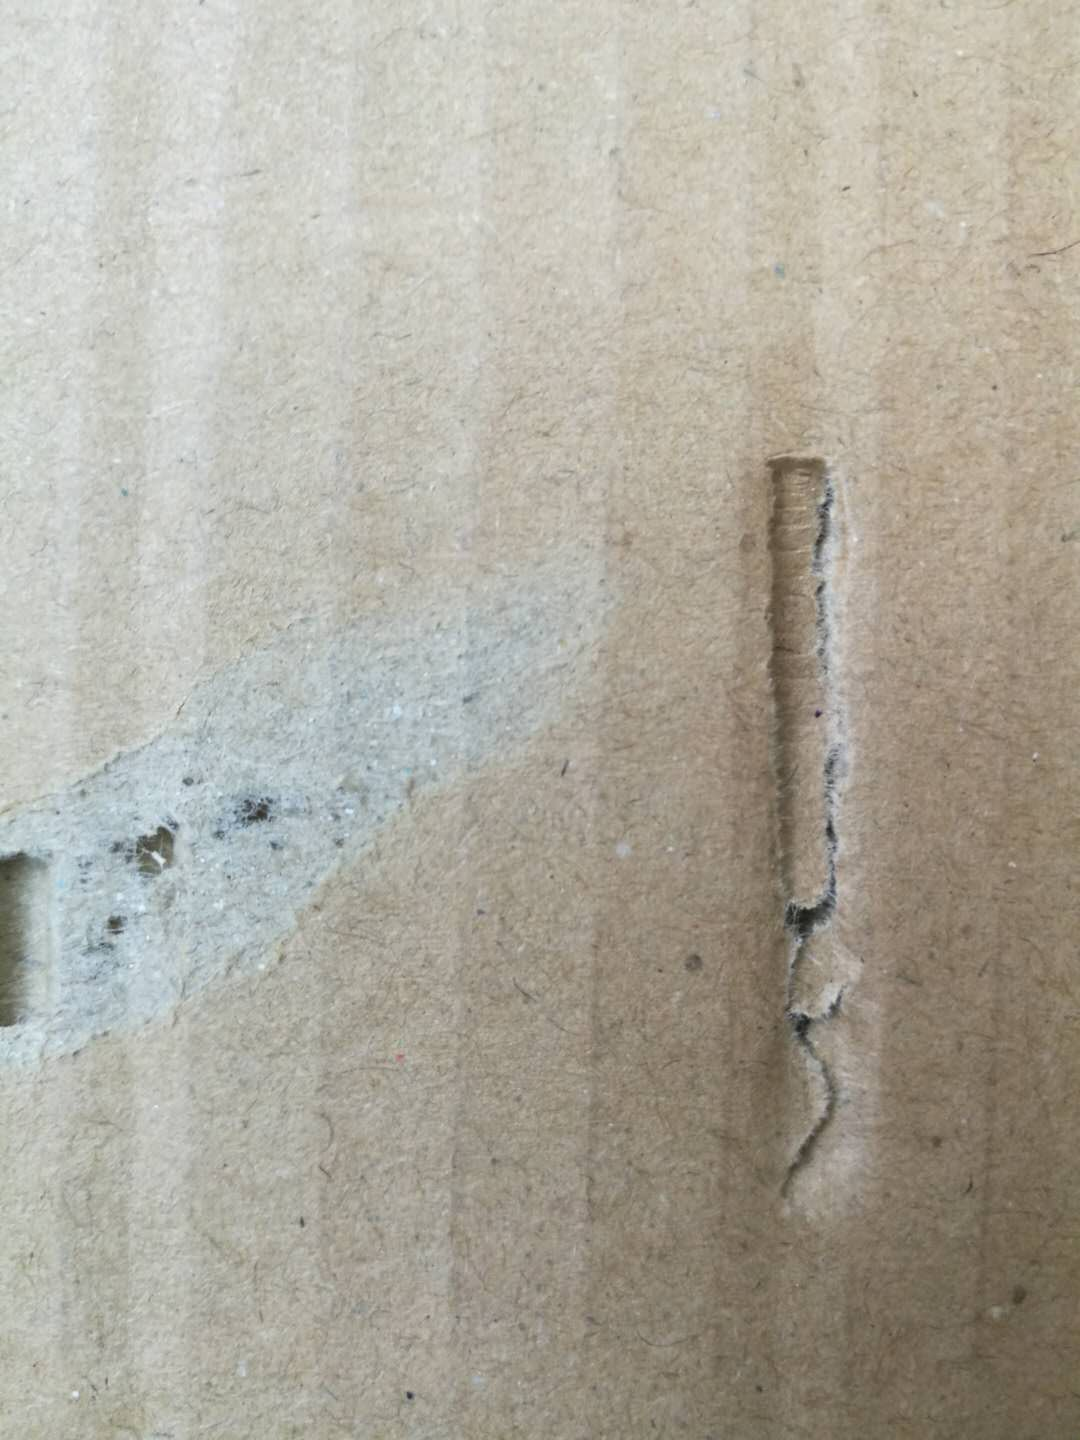defect: (2, 495, 657, 1127), (663, 418, 959, 1272)
